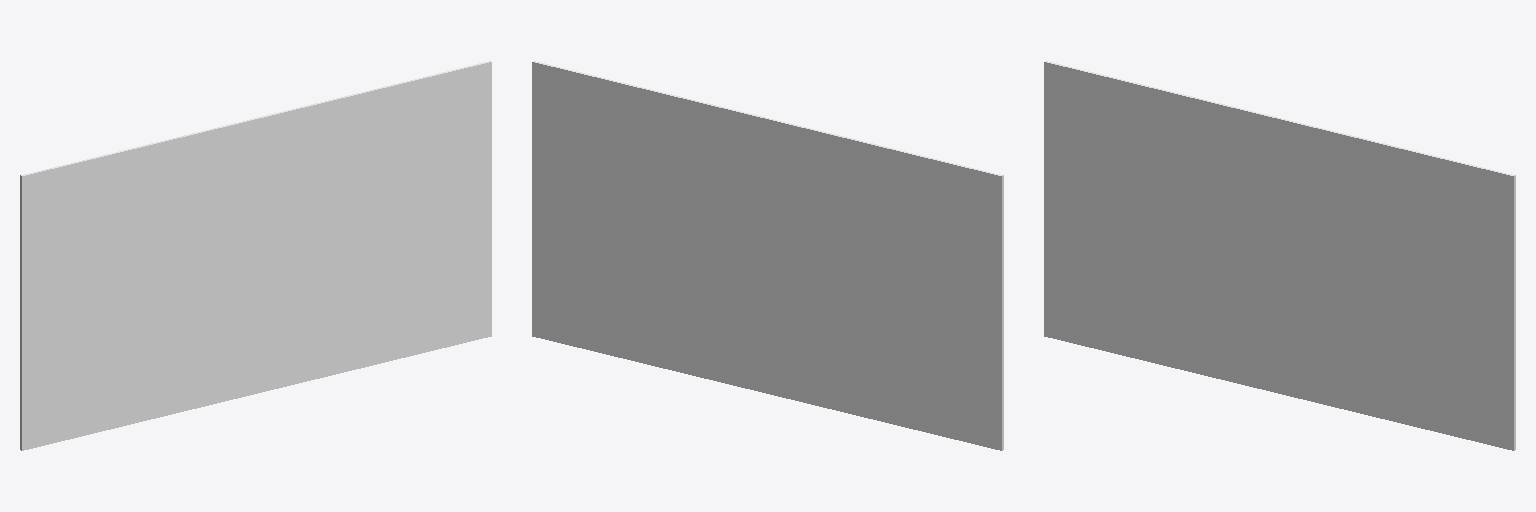
The robot description file, URDF, robot "Truck_Trailer_Right_Side":
<?xml version="1.0" ?>
<robot name="Truck_Trailer_Right_Side">
  <link name="Truck_Trailer_Right_Side">
    <inertial>
      <mass value="354.8385990843851"/>
      <inertia ixx="9.700824713962506e+17" ixy="6.454476517035529" ixz="30.98148728177054" iyy="7.392661587970185e+17" iyz="3304.6919767221907" izz="2.30854467341684e+17"/>
      <origin xyz="0.0 0.0 0.0" rpy="0.0 0.0 0.0"/>
    </inertial>
    <visual>
      <origin xyz="1.5 -1.2827 1.397" rpy="0.0 0.0 0.0"/>
      <geometry>
        <box size="5 0.0254 2.794"/>
      </geometry>
      <material name="Truck_Trailer_Right_Side_material">
        <color rgba="1 1 1 0.1"/>
      </material>
    </visual>
    <collision name="collision">
      <origin xyz="1.5 -1.2827 1.397" rpy="0.0 0.0 0.0"/>
      <geometry>
        <box size="5 0.0254 2.794"/>
      </geometry>
    </collision>
  </link>
</robot>

--- Render facts (derived) ---
3 views of the same robot in one strip: view 1: azimuth 30°, elevation 25°; view 2: azimuth 150°, elevation 25°; view 3: azimuth 330°, elevation 25° (orthographic).
Model Truck_Trailer_Right_Side with 1 links and 0 joints (none), rooted at Truck_Trailer_Right_Side, posed every joint at zero.
Links seen in each view (by area): view 1: Truck_Trailer_Right_Side; view 2: Truck_Trailer_Right_Side; view 3: Truck_Trailer_Right_Side.
Link boxes in pixels (x1,y1,x2,y2): Truck_Trailer_Right_Side: (20,61,491,450); Truck_Trailer_Right_Side: (532,61,1003,450); Truck_Trailer_Right_Side: (1044,61,1515,450).
Size in the robot's own frame: 5 by 0.0254 by 2.79 metres.
Geometry: primitives only (box / cylinder / sphere), no mesh files.